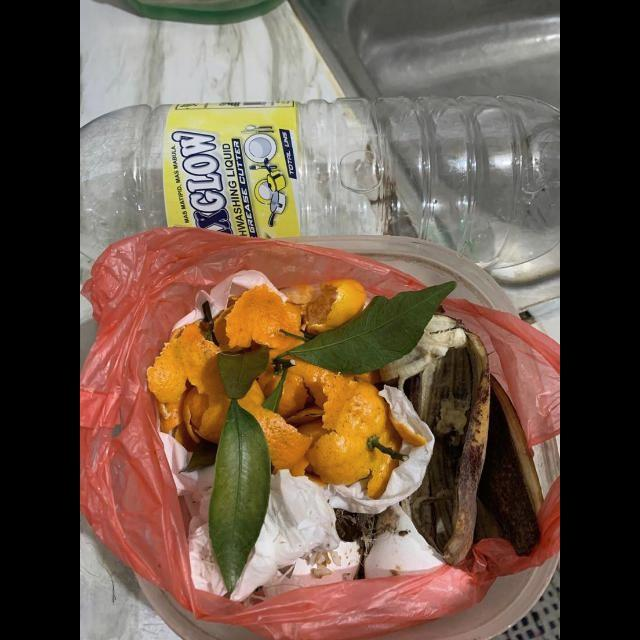paper: (229, 469, 341, 603)
plastic_bottle: (80, 96, 560, 278)
